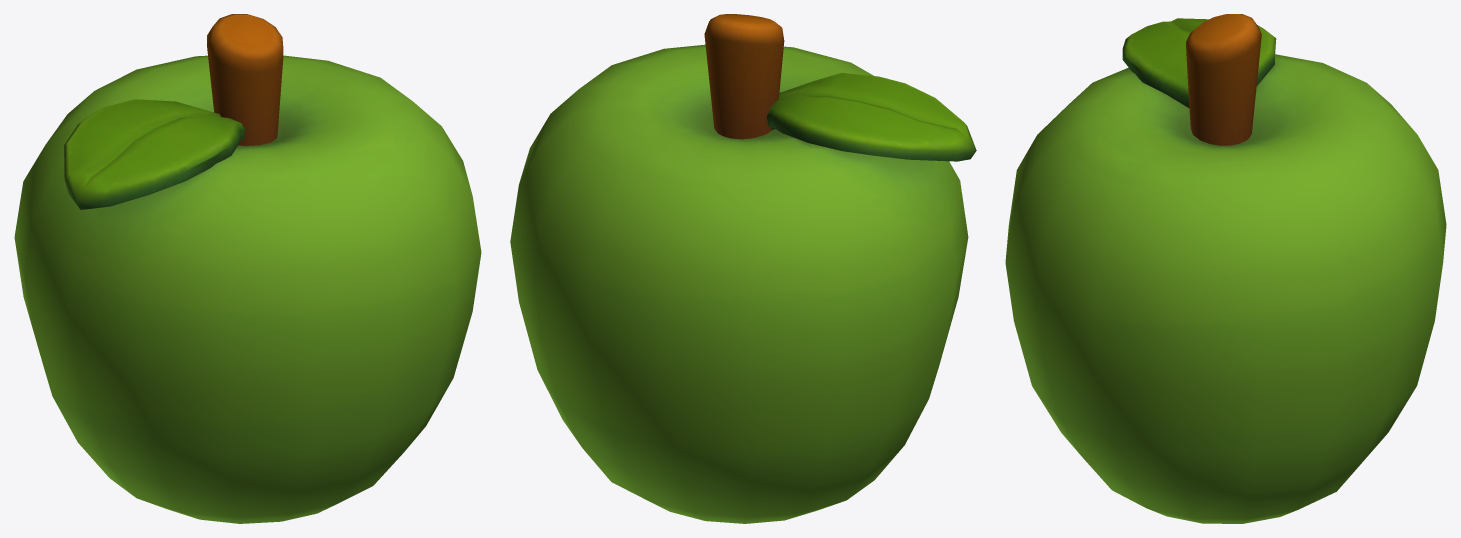
Rendered from 0-apple_green.fbx.
3 renders of one model, left to right at view 1: azimuth 30°, elevation 25°; view 2: azimuth 150°, elevation 25°; view 3: azimuth 270°, elevation 25°, orthographic. The views are drawn at different scales.
Parts seen in each view (by area): view 1: 0-apple_green; view 2: 0-apple_green; view 3: 0-apple_green.
Part boxes in pixels (x1,y1,x2,y2): 0-apple_green: (14,14,481,523); 0-apple_green: (510,14,976,523); 0-apple_green: (1005,14,1446,523).
Size of the model in its own units: 85.54 by 95.65 by 82.49.
